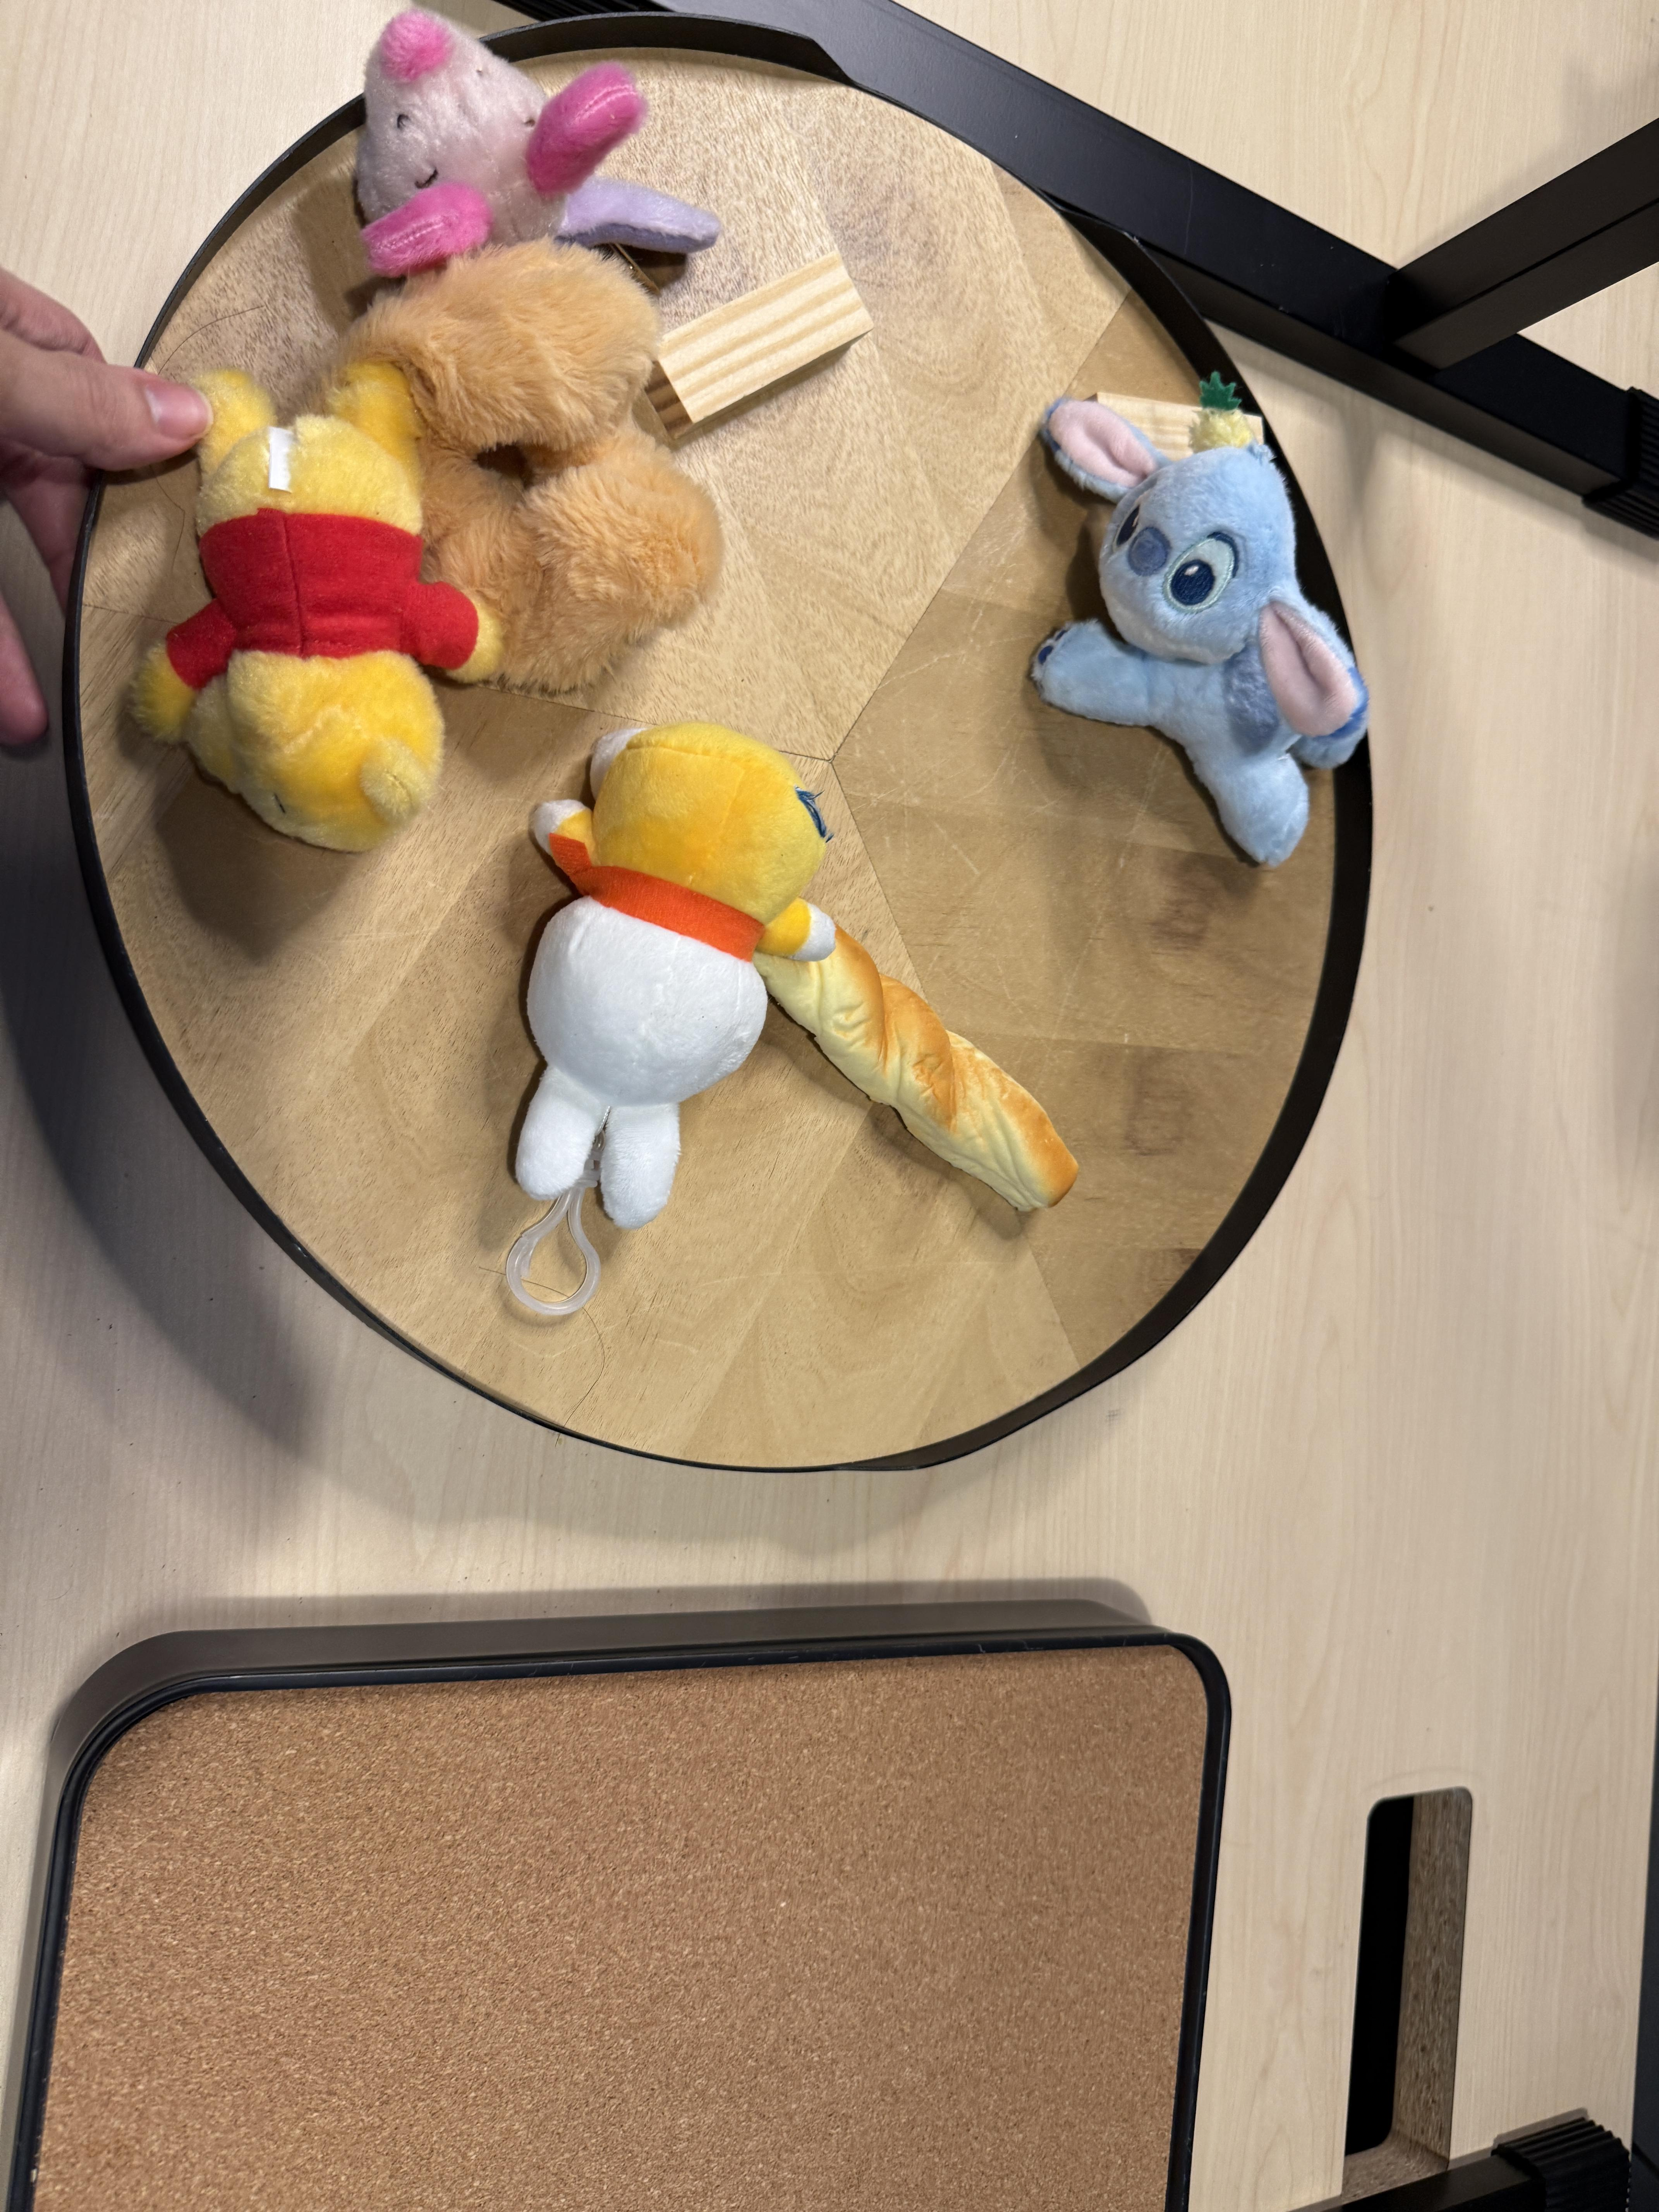block: (662, 247, 877, 428)
bread: (739, 899, 1079, 1214)
doll: (136, 244, 723, 845), (1033, 395, 1370, 862), (535, 728, 836, 1238), (364, 3, 641, 270)
